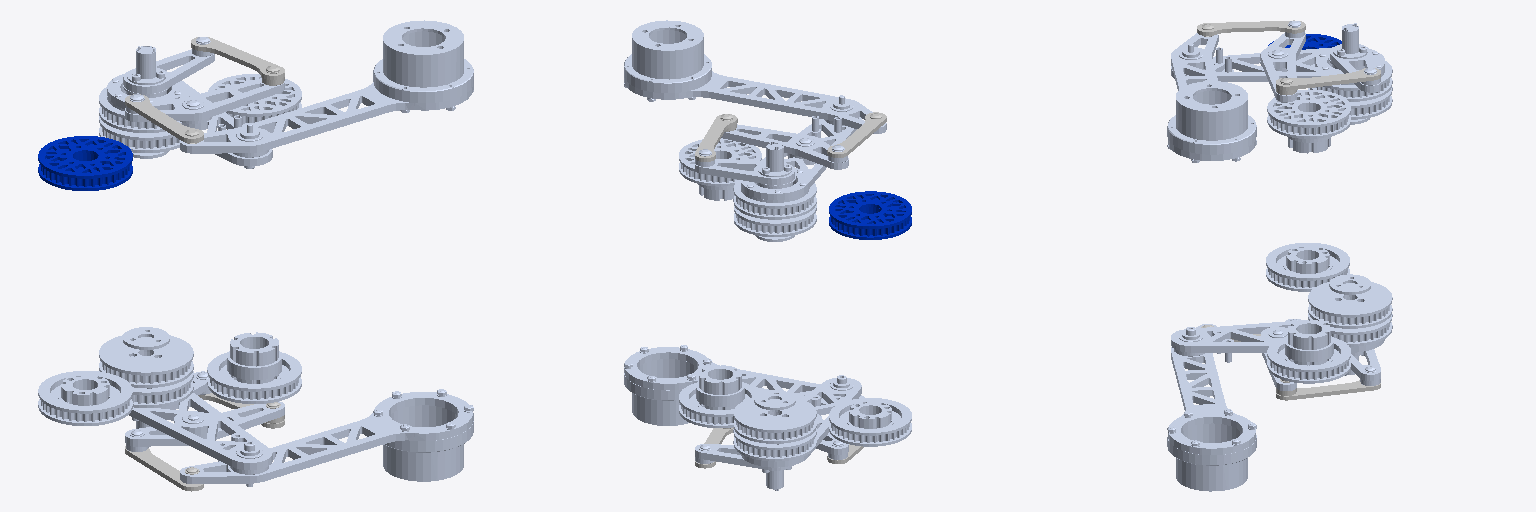
robot.urdf — dogleg_demo_finished:
<?xml version='1.0' encoding='utf-8'?>
<robot name="dogleg_demo_finished">
  <!--Isaac-specific loop extensions; this variant is NOT Isaac runtime-tested. The separate MuJoCo scene implements and tests both belt and pin constraints.-->
  <!--Motor axes -> four ideal timing-belt mimics -> passive closed-chain legs. URDF alone is not a physics proof. Original export preserved. Test effort limits are NOT hardware ratings.-->
  <link name="base_link">
    <inertial>
      <origin xyz="-0.0096745790754499 0.0465470247161256 0.000109732100770301" rpy="0 0 0" />
      <mass value="2.73467219858531" />
      <inertia ixx="0.0015799601239332" ixy="-9.56211625094822E-06" ixz="8.06857489780055E-07" iyy="0.00219615926008455" iyz="-2.1573563461228E-07" izz="0.0022740890712991" />
    </inertial>
    <visual>
      <origin xyz="0 0 0" rpy="0 0 0" />
      <geometry>
        <mesh filename="../meshes/base_link.STL" />
      </geometry>
      <material name="">
        <color rgba="1 0.949019607843137 0.909803921568627 1" />
      </material>
    </visual>
    <collision>
      <origin xyz="0 0 0" rpy="0 0 0" />
      <geometry>
        <mesh filename="../meshes/base_link.STL" />
      </geometry>
    </collision>
  </link>
  <link name="left_rear2_link">
    <inertial>
      <origin xyz="0.00424484052988039 -0.0475199901021265 0.00539792334564894" rpy="0 0 0" />
      <mass value="0.108137101468231" />
      <inertia ixx="8.0558263716322E-05" ixy="5.71372743931133E-06" ixz="1.83738568963886E-21" iyy="1.5834717224895E-05" iyz="-1.79043043264307E-20" izz="9.5245639215857E-05" />
    </inertial>
    <visual>
      <origin xyz="0 0 0" rpy="0 0 0" />
      <geometry>
        <mesh filename="../meshes/left_rear2_link.STL" />
      </geometry>
      <material name="">
        <color rgba="0.866666666666667 0.909803921568627 1 1" />
      </material>
    </visual>
    <collision>
      <origin xyz="0 0 0" rpy="0 0 0" />
      <geometry>
        <mesh filename="../meshes/left_rear2_link.STL" />
      </geometry>
    </collision>
  </link>
  <joint name="left_rear2_joint" type="continuous">
    <origin xyz="-0.00054383 0.068778 0.096" rpy="0 0 0" />
    <parent link="base_link" />
    <child link="left_rear2_link" />
    <axis xyz="0 0 -1" />
    <mimic joint="left_rear1_joint" multiplier="1.0" offset="0" />
  </joint>
  <link name="left_rear3_link">
    <inertial>
      <origin xyz="-0.0929559044198896 0.0109305546029096 -0.00112275290396431" rpy="0 0 0" />
      <mass value="0.0892585639019485" />
      <inertia ixx="2.11004417436146E-05" ixy="1.31582097828082E-05" ixz="-8.03292287175559E-13" iyy="0.000187198079196975" iyz="-7.25417771224449E-12" izz="0.00020310635978237" />
    </inertial>
    <visual>
      <origin xyz="0 0 0" rpy="0 0 0" />
      <geometry>
        <mesh filename="../meshes/left_rear3_link.STL" />
      </geometry>
      <material name="">
        <color rgba="0.866666666666667 0.909803921568627 1 1" />
      </material>
    </visual>
    <collision>
      <origin xyz="0 0 0" rpy="0 0 0" />
      <geometry>
        <mesh filename="../meshes/left_rear3_link.STL" />
      </geometry>
    </collision>
  </link>
  <joint name="left_rear3_joint" type="continuous">
    <origin xyz="0.0097547 -0.10957 0.0187" rpy="3.1416 0 3.1416" />
    <parent link="left_rear2_link" />
    <child link="left_rear3_link" />
    <axis xyz="0 0 -1" />
  </joint>
  <link name="left_rear4_link">
    <inertial>
      <origin xyz="2.30338276414055E-05 2.52058952544543E-05 -0.0409315231198923" rpy="0 0 0" />
      <mass value="0.710278052778645" />
      <inertia ixx="0.000337514066285057" ixy="6.7200402309691E-07" ixz="-2.55154802049371E-07" iyy="0.000334151775473383" iyz="-2.10145809234303E-07" izz="0.000566020514180418" />
    </inertial>
    <visual>
      <origin xyz="0 0 0" rpy="0 0 0" />
      <geometry>
        <mesh filename="../meshes/left_rear4_link.STL" />
      </geometry>
      <material name="">
        <color rgba="1 1 1 1" />
      </material>
    </visual>
    <collision>
      <origin xyz="0 0 0" rpy="0 0 0" />
      <geometry>
        <mesh filename="../meshes/left_rear4_link.STL" />
      </geometry>
    </collision>
  </link>
  <joint name="left_rear4_joint" type="continuous">
    <origin xyz="-0.1312 0.014528 -0.0546" rpy="3.1416 0 3.1416" />
    <parent link="left_rear3_link" />
    <child link="left_rear4_link" />
    <axis xyz="0 0 -1" />
  </joint>
  <link name="left_front2_link">
    <inertial>
      <origin xyz="-0.0106040903463385 0.00306030103924737 -0.0123369894265085" rpy="0 0 0" />
      <mass value="0.0592417294616699" />
      <inertia ixx="7.6538777421844E-06" ixy="1.25868738225618E-06" ixz="4.82687313109346E-09" iyy="1.16500275254118E-05" iyz="-1.39301730483154E-09" izz="1.88864712445536E-05" />
    </inertial>
    <visual>
      <origin xyz="0 0 0" rpy="0 0 0" />
      <geometry>
        <mesh filename="../meshes/left_front2_link.STL" />
      </geometry>
      <material name="">
        <color rgba="0.866666666666667 0.909803921568627 1 1" />
      </material>
    </visual>
    <collision>
      <origin xyz="0 0 0" rpy="0 0 0" />
      <geometry>
        <mesh filename="../meshes/left_front2_link.STL" />
      </geometry>
    </collision>
  </link>
  <joint name="left_front2_joint" type="continuous">
    <origin xyz="-0.00054383 0.068778 0.0825" rpy="3.1416 0 3.1416" />
    <parent link="base_link" />
    <child link="left_front2_link" />
    <axis xyz="0 0 -1" />
    <mimic joint="left_front1_joint" multiplier="-1.0" offset="0" />
  </joint>
  <link name="left_front3_link">
    <inertial>
      <origin xyz="0.0133937328937749 -0.0455068923810795 -0.000739603643024139" rpy="0 0 0" />
      <mass value="0.0138210650212034" />
      <inertia ixx="2.49356229536448E-06" ixy="6.4374040341159E-07" ixz="-6.13805108671752E-23" iyy="3.62951833332279E-07" iyz="6.16002768421736E-22" izz="2.79353702673663E-06" />
    </inertial>
    <visual>
      <origin xyz="0 0 0" rpy="0 0 0" />
      <geometry>
        <mesh filename="../meshes/left_front3_link.STL" />
      </geometry>
      <material name="">
        <color rgba="0.847058823529412 0.847058823529412 0.847058823529412 1" />
      </material>
    </visual>
    <collision>
      <origin xyz="0 0 0" rpy="0 0 0" />
      <geometry>
        <mesh filename="../meshes/left_front3_link.STL" />
      </geometry>
    </collision>
  </link>
  <joint name="left_front3_joint" type="continuous">
    <origin xyz="-0.048039 0.013864 -0.0335" rpy="3.1416 0 3.1416" />
    <parent link="left_front2_link" />
    <child link="left_front3_link" />
    <axis xyz="0 0 1" />
  </joint>
  <link name="left_front4_link">
    <inertial>
      <origin xyz="0.0605844551058147 0.000267669427897022 0.00531738030125994" rpy="0 0 0" />
      <mass value="0.0279409771919705" />
      <inertia ixx="1.19339110735985E-06" ixy="-5.09946013262622E-07" ixz="-1.12183748143215E-19" iyy="1.63767819614382E-05" iyz="-2.80061942748955E-21" izz="1.74328195558619E-05" />
    </inertial>
    <visual>
      <origin xyz="0 0 0" rpy="0 0 0" />
      <geometry>
        <mesh filename="../meshes/left_front4_link.STL" />
      </geometry>
      <material name="">
        <color rgba="0.866666666666667 0.909803921568627 1 1" />
      </material>
    </visual>
    <collision>
      <origin xyz="0 0 0" rpy="0 0 0" />
      <geometry>
        <mesh filename="../meshes/left_front4_link.STL" />
      </geometry>
    </collision>
  </link>
  <joint name="left_front4_joint" type="continuous">
    <origin xyz="0.016107 -0.057798 0" rpy="3.1416 0 3.1416" />
    <parent link="left_front3_link" />
    <child link="left_front4_link" />
    <axis xyz="0 0 -1" />
  </joint>
  <link name="left_front5_link">
    <inertial>
      <origin xyz="-0.00200422892382502 -0.0421325735664431 0.000305959708996717" rpy="0 0 0" />
      <mass value="0.00974157396033001" />
      <inertia ixx="2.8385973031633E-06" ixy="-2.05967628761937E-07" ixz="-4.53786655724572E-22" iyy="1.33175232073433E-07" iyz="6.19534848380627E-22" izz="2.927812997506E-06" />
    </inertial>
    <visual>
      <origin xyz="0 0 0" rpy="0 0 0" />
      <geometry>
        <mesh filename="../meshes/left_front5_link.STL" />
      </geometry>
      <material name="">
        <color rgba="0.847058823529412 0.847058823529412 0.847058823529412 1" />
      </material>
    </visual>
    <collision>
      <origin xyz="0 0 0" rpy="0 0 0" />
      <geometry>
        <mesh filename="../meshes/left_front5_link.STL" />
      </geometry>
    </collision>
  </link>
  <joint name="left_front5_joint" type="continuous">
    <origin xyz="0.092728 0.0057484 0" rpy="0 0 0" />
    <parent link="left_front4_link" />
    <child link="left_front5_link" />
    <axis xyz="0 0 -1" />
  </joint>
  <link name="right_rear2_link">
    <inertial>
      <origin xyz="-0.00424484052984289 -0.0475199901021223 0.00539792334565872" rpy="0 0 0" />
      <mass value="0.108137101468231" />
      <inertia ixx="8.0558263716322E-05" ixy="-5.71372743931133E-06" ixz="-1.03554453829294E-19" iyy="1.5834717224895E-05" iyz="-5.37448198698392E-20" izz="9.5245639215857E-05" />
    </inertial>
    <visual>
      <origin xyz="0 0 0" rpy="0 0 0" />
      <geometry>
        <mesh filename="../meshes/right_rear2_link.STL" />
      </geometry>
      <material name="">
        <color rgba="0.866666666666667 0.909803921568627 1 1" />
      </material>
    </visual>
    <collision>
      <origin xyz="0 0 0" rpy="0 0 0" />
      <geometry>
        <mesh filename="../meshes/right_rear2_link.STL" />
      </geometry>
    </collision>
  </link>
  <joint name="right_rear2_joint" type="continuous">
    <origin xyz="-0.00054383 0.068778 -0.096" rpy="3.1416 0 3.1416" />
    <parent link="base_link" />
    <child link="right_rear2_link" />
    <axis xyz="0 0 1" />
    <mimic joint="right_rear1_joint" multiplier="-1.0" offset="0" />
  </joint>
  <link name="right_rear3_link">
    <inertial>
      <origin xyz="0.0929559044198897 0.01093055460291 -0.00112276585162568" rpy="0 0 0" />
      <mass value="0.0892585639019486" />
      <inertia ixx="2.11004417436147E-05" ixy="-1.31582097828083E-05" ixz="8.03291018722564E-13" iyy="0.000187198079196975" iyz="-7.25417780464052E-12" izz="0.000203106359782371" />
    </inertial>
    <visual>
      <origin xyz="0 0 0" rpy="0 0 0" />
      <geometry>
        <mesh filename="../meshes/right_rear3_link.STL" />
      </geometry>
      <material name="">
        <color rgba="0.866666666666667 0.909803921568627 1 1" />
      </material>
    </visual>
    <collision>
      <origin xyz="0 0 0" rpy="0 0 0" />
      <geometry>
        <mesh filename="../meshes/right_rear3_link.STL" />
      </geometry>
    </collision>
  </link>
  <joint name="right_rear3_joint" type="continuous">
    <origin xyz="-0.0097547 -0.10957 0.0187" rpy="3.1416 0 3.1416" />
    <parent link="right_rear2_link" />
    <child link="right_rear3_link" />
    <axis xyz="0 0 1" />
  </joint>
  <link name="right_rear4_link">
    <inertial>
      <origin xyz="2.79811143073239E-05 1.95567584320711E-05 -0.0409315231119988" rpy="0 0 0" />
      <mass value="0.710278052595854" />
      <inertia ixx="0.000337640048361598" ixy="-1.10134204423771E-07" ixz="-2.94950260157797E-07" iyy="0.000334025793396068" iyz="-1.49229950916992E-07" izz="0.000566020514180329" />
    </inertial>
    <visual>
      <origin xyz="0 0 0" rpy="0 0 0" />
      <geometry>
        <mesh filename="../meshes/right_rear4_link.STL" />
      </geometry>
      <material name="">
        <color rgba="1 1 1 1" />
      </material>
    </visual>
    <collision>
      <origin xyz="0 0 0" rpy="0 0 0" />
      <geometry>
        <mesh filename="../meshes/right_rear4_link.STL" />
      </geometry>
    </collision>
  </link>
  <joint name="right_rear4_joint" type="continuous">
    <origin xyz="0.1312 0.014528 -0.0546" rpy="3.1416 0 3.1416" />
    <parent link="right_rear3_link" />
    <child link="right_rear4_link" />
    <axis xyz="0 0 -1" />
  </joint>
  <link name="right_front2_link">
    <inertial>
      <origin xyz="0.0105884006947785 0.00305577306553287 -0.0123167951224858" rpy="0 0 0" />
      <mass value="0.0592169108797066" />
      <inertia ixx="7.65379699906441E-06" ixy="-1.25868738225618E-06" ixz="4.82687313118698E-09" iyy="1.16499467822918E-05" iyz="1.39301730484955E-09" izz="1.88863099237708E-05" />
    </inertial>
    <visual>
      <origin xyz="0 0 0" rpy="0 0 0" />
      <geometry>
        <mesh filename="../meshes/right_front2_link.STL" />
      </geometry>
      <material name="">
        <color rgba="0.866666666666667 0.909803921568627 1 1" />
      </material>
    </visual>
    <collision>
      <origin xyz="0 0 0" rpy="0 0 0" />
      <geometry>
        <mesh filename="../meshes/right_front2_link.STL" />
      </geometry>
    </collision>
  </link>
  <joint name="right_front2_joint" type="continuous">
    <origin xyz="-0.00054383 0.068778 -0.0825" rpy="0 0 0" />
    <parent link="base_link" />
    <child link="right_front2_link" />
    <axis xyz="0 0 1" />
    <mimic joint="right_front1_joint" multiplier="1.0" offset="0" />
  </joint>
  <link name="right_front3_link">
    <inertial>
      <origin xyz="-0.0133888523306108 -0.0454847820587269 -0.000547410317772806" rpy="0 0 0" />
      <mass value="0.01379624643924" />
      <inertia ixx="2.4934815522445E-06" ixy="-6.43740403411591E-07" ixz="-2.03769130204315E-21" iyy="3.62871090212292E-07" iyz="-3.91759652841014E-21" izz="2.79337570595387E-06" />
    </inertial>
    <visual>
      <origin xyz="0 0 0" rpy="0 0 0" />
      <geometry>
        <mesh filename="../meshes/right_front3_link.STL" />
      </geometry>
      <material name="">
        <color rgba="0.847058823529412 0.847058823529412 0.847058823529412 1" />
      </material>
    </visual>
    <collision>
      <origin xyz="0 0 0" rpy="0 0 0" />
      <geometry>
        <mesh filename="../meshes/right_front3_link.STL" />
      </geometry>
    </collision>
  </link>
  <joint name="right_front3_joint" type="continuous">
    <origin xyz="0.048039 0.013864 -0.0333" rpy="3.1416 0 3.1416" />
    <parent link="right_front2_link" />
    <child link="right_front3_link" />
    <axis xyz="0 0 -1" />
  </joint>
  <link name="right_front4_link">
    <inertial>
      <origin xyz="-0.06058445128137 0.000267675011850654 0.00331738030125958" rpy="0 0 0" />
      <mass value="0.0279409771919705" />
      <inertia ixx="1.19339110735985E-06" ixy="5.09946013262621E-07" ixz="-1.02534210251964E-21" iyy="1.63767819614382E-05" iyz="5.12718223797701E-22" izz="1.74328195558619E-05" />
    </inertial>
    <visual>
      <origin xyz="0 0 0" rpy="0 0 0" />
      <geometry>
        <mesh filename="../meshes/right_front4_link.STL" />
      </geometry>
      <material name="">
        <color rgba="0.866666666666667 0.909803921568627 1 1" />
      </material>
    </visual>
    <collision>
      <origin xyz="0 0 0" rpy="0 0 0" />
      <geometry>
        <mesh filename="../meshes/right_front4_link.STL" />
      </geometry>
    </collision>
  </link>
  <joint name="right_front4_joint" type="continuous">
    <origin xyz="-0.016107 -0.057798 -0.0018" rpy="3.1416 0 3.1416" />
    <parent link="right_front3_link" />
    <child link="right_front4_link" />
    <axis xyz="0 0 1" />
  </joint>
  <link name="right_front5_link">
    <inertial>
      <origin xyz="0.002004228923825 -0.042132573566443 0.000305959708996703" rpy="0 0 0" />
      <mass value="0.00974157396032999" />
      <inertia ixx="2.83859730316329E-06" ixy="2.05967628761937E-07" ixz="-1.68979369191704E-22" iyy="1.33175232073433E-07" iyz="2.02901986945396E-21" izz="2.92781299750598E-06" />
    </inertial>
    <visual>
      <origin xyz="0 0 0" rpy="0 0 0" />
      <geometry>
        <mesh filename="../meshes/right_front5_link.STL" />
      </geometry>
      <material name="">
        <color rgba="0.847058823529412 0.847058823529412 0.847058823529412 1" />
      </material>
    </visual>
    <collision>
      <origin xyz="0 0 0" rpy="0 0 0" />
      <geometry>
        <mesh filename="../meshes/right_front5_link.STL" />
      </geometry>
    </collision>
  </link>
  <joint name="right_front5_joint" type="continuous">
    <origin xyz="-0.092728 0.0057484 -0.002" rpy="0 0 0" />
    <parent link="right_front4_link" />
    <child link="right_front5_link" />
    <axis xyz="0 0 1" />
  </joint>
  <link name="left_front1_wheel">
    <inertial>
      <origin xyz="-1.07552855510562E-16 -6.93889390390723E-16 -0.0134881822284883" rpy="0 0 0" />
      <mass value="0.00932859472049755" />
      <inertia ixx="2.20109515239337E-06" ixy="-2.57554074900148E-21" ixz="-1.59303559596716E-20" iyy="2.20109515239337E-06" iyz="-1.33289672229169E-21" izz="4.3956078293935E-06" />
    </inertial>
    <visual>
      <origin xyz="0 0 0" rpy="0 0 0" />
      <geometry>
        <mesh filename="../meshes/left_front1_wheel.STL" />
      </geometry>
      <material name="">
        <color rgba="0.00784313725490196 0.23921568627451 0.823529411764706 1" />
      </material>
    </visual>
    <collision>
      <origin xyz="0 0 0" rpy="0 0 0" />
      <geometry>
        <mesh filename="../meshes/left_front1_wheel.STL" />
      </geometry>
    </collision>
  </link>
  <joint name="left_front1_joint" type="continuous">
    <origin xyz="-0.060315 0.03963 0.07" rpy="3.1416 0 3.1416" />
    <parent link="base_link" />
    <child link="left_front1_wheel" />
    <axis xyz="0 0 1" />
    <!--Conservative simulation test cap, NOT the DM4310 rated torque or speed.-->
    <limit effort="0.2" velocity="2.0" />
  </joint>
  <link name="left_rear1_wheel">
    <inertial>
      <origin xyz="7.21644966006352E-16 -1.11022302462516E-16 0.0269701449622776" rpy="0 0 0" />
      <mass value="0.00933760843082636" />
      <inertia ixx="2.20208891234687E-06" ixy="-3.33544418931112E-21" ixz="1.67928790413981E-22" iyy="2.20208891234687E-06" iyz="-8.67589938873464E-22" izz="4.39720795558203E-06" />
    </inertial>
    <visual>
      <origin xyz="0 0 0" rpy="0 0 0" />
      <geometry>
        <mesh filename="../meshes/left_rear1_wheel.STL" />
      </geometry>
      <material name="">
        <color rgba="0.866666666666667 0.909803921568627 1 1" />
      </material>
    </visual>
    <collision>
      <origin xyz="0 0 0" rpy="0 0 0" />
      <geometry>
        <mesh filename="../meshes/left_rear1_wheel.STL" />
      </geometry>
    </collision>
  </link>
  <joint name="left_rear1_joint" type="continuous">
    <origin xyz="0.059681 0.040579 0.07" rpy="0 0 0" />
    <parent link="base_link" />
    <child link="left_rear1_wheel" />
    <axis xyz="0 0 -1" />
    <!--Conservative simulation test cap, NOT the DM4310 rated torque or speed.-->
    <limit effort="0.2" velocity="2.0" />
  </joint>
  <link name="right_front1_wheel">
    <inertial>
      <origin xyz="1.97758476261356E-16 -7.49400541621981E-16 -0.0134881822284883" rpy="0 0 0" />
      <mass value="0.00932859472049754" />
      <inertia ixx="2.20109515239337E-06" ixy="2.51977179104788E-21" ixz="6.57097168399722E-22" iyy="2.20109515239337E-06" iyz="-1.32633999372042E-21" izz="4.3956078293935E-06" />
    </inertial>
    <visual>
      <origin xyz="0 0 0" rpy="0 0 0" />
      <geometry>
        <mesh filename="../meshes/right_front1_wheel.STL" />
      </geometry>
      <material name="">
        <color rgba="0.866666666666667 0.909803921568627 1 1" />
      </material>
    </visual>
    <collision>
      <origin xyz="0 0 0" rpy="0 0 0" />
      <geometry>
        <mesh filename="../meshes/right_front1_wheel.STL" />
      </geometry>
    </collision>
  </link>
  <joint name="right_front1_joint" type="continuous">
    <origin xyz="-0.060315 0.03963 -0.07" rpy="0 0 0" />
    <parent link="base_link" />
    <child link="right_front1_wheel" />
    <axis xyz="0 0 1" />
    <!--Conservative simulation test cap, NOT the DM4310 rated torque or speed.-->
    <limit effort="0.2" velocity="2.0" />
  </joint>
  <link name="right_rear1_wheel">
    <inertial>
      <origin xyz="-1.66533453693773E-16 -4.9960036108132E-16 0.0269701449622736" rpy="0 0 0" />
      <mass value="0.00933760843082636" />
      <inertia ixx="2.20208891234687E-06" ixy="3.76452635016975E-21" ixz="-1.516487377585E-20" iyy="2.20208891234687E-06" iyz="8.70489805981917E-22" izz="4.39720795558203E-06" />
    </inertial>
    <visual>
      <origin xyz="0 0 0" rpy="0 0 0" />
      <geometry>
        <mesh filename="../meshes/right_rear1_wheel.STL" />
      </geometry>
      <material name="">
        <color rgba="0.866666666666667 0.909803921568627 1 1" />
      </material>
    </visual>
    <collision>
      <origin xyz="0 0 0" rpy="0 0 0" />
      <geometry>
        <mesh filename="../meshes/right_rear1_wheel.STL" />
      </geometry>
    </collision>
  </link>
  <joint name="right_rear1_joint" type="continuous">
    <origin xyz="0.059681 0.040579 -0.07" rpy="3.1416 0 3.1416" />
    <parent link="base_link" />
    <child link="right_rear1_wheel" />
    <axis xyz="0 0 -1" />
    <!--Conservative simulation test cap, NOT the DM4310 rated torque or speed.-->
    <limit effort="0.2" velocity="2.0" />
  </joint>
  <transmission name="left_front1_joint_transmission">
    <type>transmission_interface/SimpleTransmission</type>
    <joint name="left_front1_joint">
      <hardwareInterface>hardware_interface/EffortJointInterface</hardwareInterface>
    </joint>
    <actuator name="left_front1_joint_actuator">
      <mechanicalReduction>1</mechanicalReduction>
    </actuator>
  </transmission>
  <transmission name="left_rear1_joint_transmission">
    <type>transmission_interface/SimpleTransmission</type>
    <joint name="left_rear1_joint">
      <hardwareInterface>hardware_interface/EffortJointInterface</hardwareInterface>
    </joint>
    <actuator name="left_rear1_joint_actuator">
      <mechanicalReduction>1</mechanicalReduction>
    </actuator>
  </transmission>
  <transmission name="right_front1_joint_transmission">
    <type>transmission_interface/SimpleTransmission</type>
    <joint name="right_front1_joint">
      <hardwareInterface>hardware_interface/EffortJointInterface</hardwareInterface>
    </joint>
    <actuator name="right_front1_joint_actuator">
      <mechanicalReduction>1</mechanicalReduction>
    </actuator>
  </transmission>
  <transmission name="right_rear1_joint_transmission">
    <type>transmission_interface/SimpleTransmission</type>
    <joint name="right_rear1_joint">
      <hardwareInterface>hardware_interface/EffortJointInterface</hardwareInterface>
    </joint>
    <actuator name="right_rear1_joint_actuator">
      <mechanicalReduction>1</mechanicalReduction>
    </actuator>
  </transmission>
  <loop_joint name="left_front5_rear3_closure" type="spherical">
    <link1 link="left_front5_link" rpy="0 0 0" xyz="-0.004232994398915009 -0.05985213711027684 0.003850190232164619" />
    <link2 link="left_rear3_link" rpy="0 0 0" xyz="0.0341033252626994 0.01153245277473615 0.002549809897196081" />
  </loop_joint>
  <loop_joint name="right_front5_rear3_closure" type="spherical">
    <link1 link="right_front5_link" rpy="0 0 0" xyz="0.004233374737920702 -0.05985214080037864 0.003850190206495457" />
    <link2 link="right_rear3_link" rpy="0 0 0" xyz="-0.03410370560166854 0.011532456464838 0.002549809864657564" />
  </loop_joint>
  <loop_joint name="left_front4_rear2_closure" type="spherical">
    <link1 link="left_front4_link" rpy="0 0 0" xyz="0.05971209394082701 -0.005869229962859032 0.005999970325243399" />
    <link2 link="left_rear2_link" rpy="0 0 0" xyz="0.004433847325467447 -0.04980311369212832 0.01399997093880095" />
  </loop_joint>
  <loop_joint name="right_front4_rear2_closure" type="spherical">
    <link1 link="right_front4_link" rpy="0 0 0" xyz="-0.05971215078921661 -0.005869269670214236 0.00399997033889874" />
    <link2 link="right_rear2_link" rpy="0 0 0" xyz="-0.004433907943451008 -0.04980306784139243 0.01399997093069907" />
  </loop_joint>
</robot>

--- Render facts (derived) ---
3 views of the same robot in one strip: view 1: azimuth 30°, elevation 25°; view 2: azimuth 150°, elevation 25°; view 3: azimuth 270°, elevation 25° (orthographic).
Robot: dogleg_demo_finished — 19 links, 18 joints (18 continuous); root link base_link; default pose: every joint at zero.
Links seen in each view (by area): view 1: left_rear3_link, right_rear3_link, right_rear2_link, right_rear1_wheel, right_front2_link, right_front1_wheel, left_front1_wheel, left_front2_link, left_rear2_link, left_front4_link, right_front4_link, left_rear1_wheel (+4 smaller); view 2: left_rear3_link, right_rear3_link, right_front2_link, left_rear2_link, left_front2_link, right_front1_wheel, left_front1_wheel, right_rear2_link, right_rear1_wheel, left_rear1_wheel, left_front4_link, left_front5_link (+1 smaller); view 3: right_rear3_link, left_rear3_link, right_front2_link, right_rear2_link, right_rear1_wheel, left_rear2_link, left_rear1_wheel, right_front1_wheel, left_front2_link, left_front4_link, left_front3_link, left_front5_link (+1 smaller).
Boxes of the visible links, x1,y1,x2,y2 form: left_rear3_link: (180,20,473,153); right_rear3_link: (180,389,473,483); right_rear2_link: (99,371,272,486); right_rear1_wheel: (207,332,301,403); right_front2_link: (99,327,211,428); right_front1_wheel: (38,371,132,425); left_front1_wheel: (38,136,132,190); left_front2_link: (99,37,214,158); left_rear2_link: (99,74,272,168); left_front4_link: (125,78,284,121); right_front4_link: (125,401,284,451); left_rear1_wheel: (208,74,301,132); left_rear3_link: (624,20,886,133); right_rear3_link: (624,345,864,425); right_front2_link: (695,390,816,490); left_rear2_link: (733,95,861,219); left_front2_link: (695,141,816,241); right_front1_wheel: (829,398,911,446); left_front1_wheel: (829,191,911,239); right_rear2_link: (733,375,861,467); right_rear1_wheel: (679,365,760,427); left_rear1_wheel: (679,138,761,200); left_front4_link: (721,124,848,169); left_front5_link: (827,112,886,157); right_rear3_link: (1167,324,1256,491); left_rear3_link: (1167,33,1256,162); right_front2_link: (1308,274,1392,385); right_rear2_link: (1171,313,1392,362); right_rear1_wheel: (1267,320,1350,383); left_rear2_link: (1171,43,1392,101); left_rear1_wheel: (1267,90,1350,153); right_front1_wheel: (1266,243,1349,291); left_front2_link: (1308,23,1392,124); left_front4_link: (1260,21,1305,102); left_front3_link: (1276,68,1380,95); left_front5_link: (1197,20,1305,36).
Bounding box of the posed robot: 0.2604 × 0.1547 × 0.288 m (x, y, z).
Meshes: 19 distinct files referenced, 16 mesh visuals loaded (16 binary STL); not drawn: 3 (reference not matched to a file when rendering).
